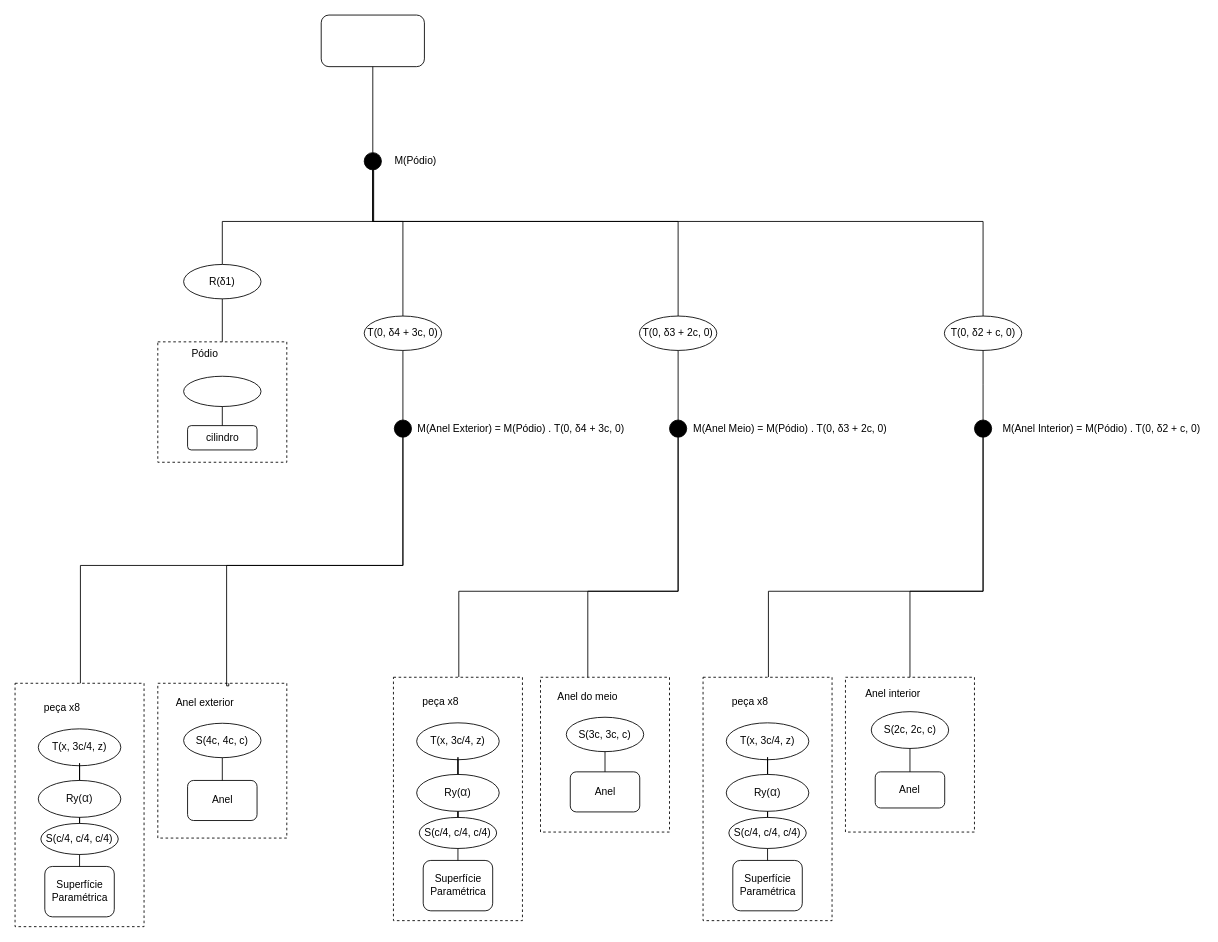
Image size: 1218x942. Some labels were removed from this diagram. The box of each missing label's shape, as (x1, y1, x2, y2) in pixels:
Carrossel: (320, 14, 424, 67)
S(c, c, c): (183, 375, 261, 407)
